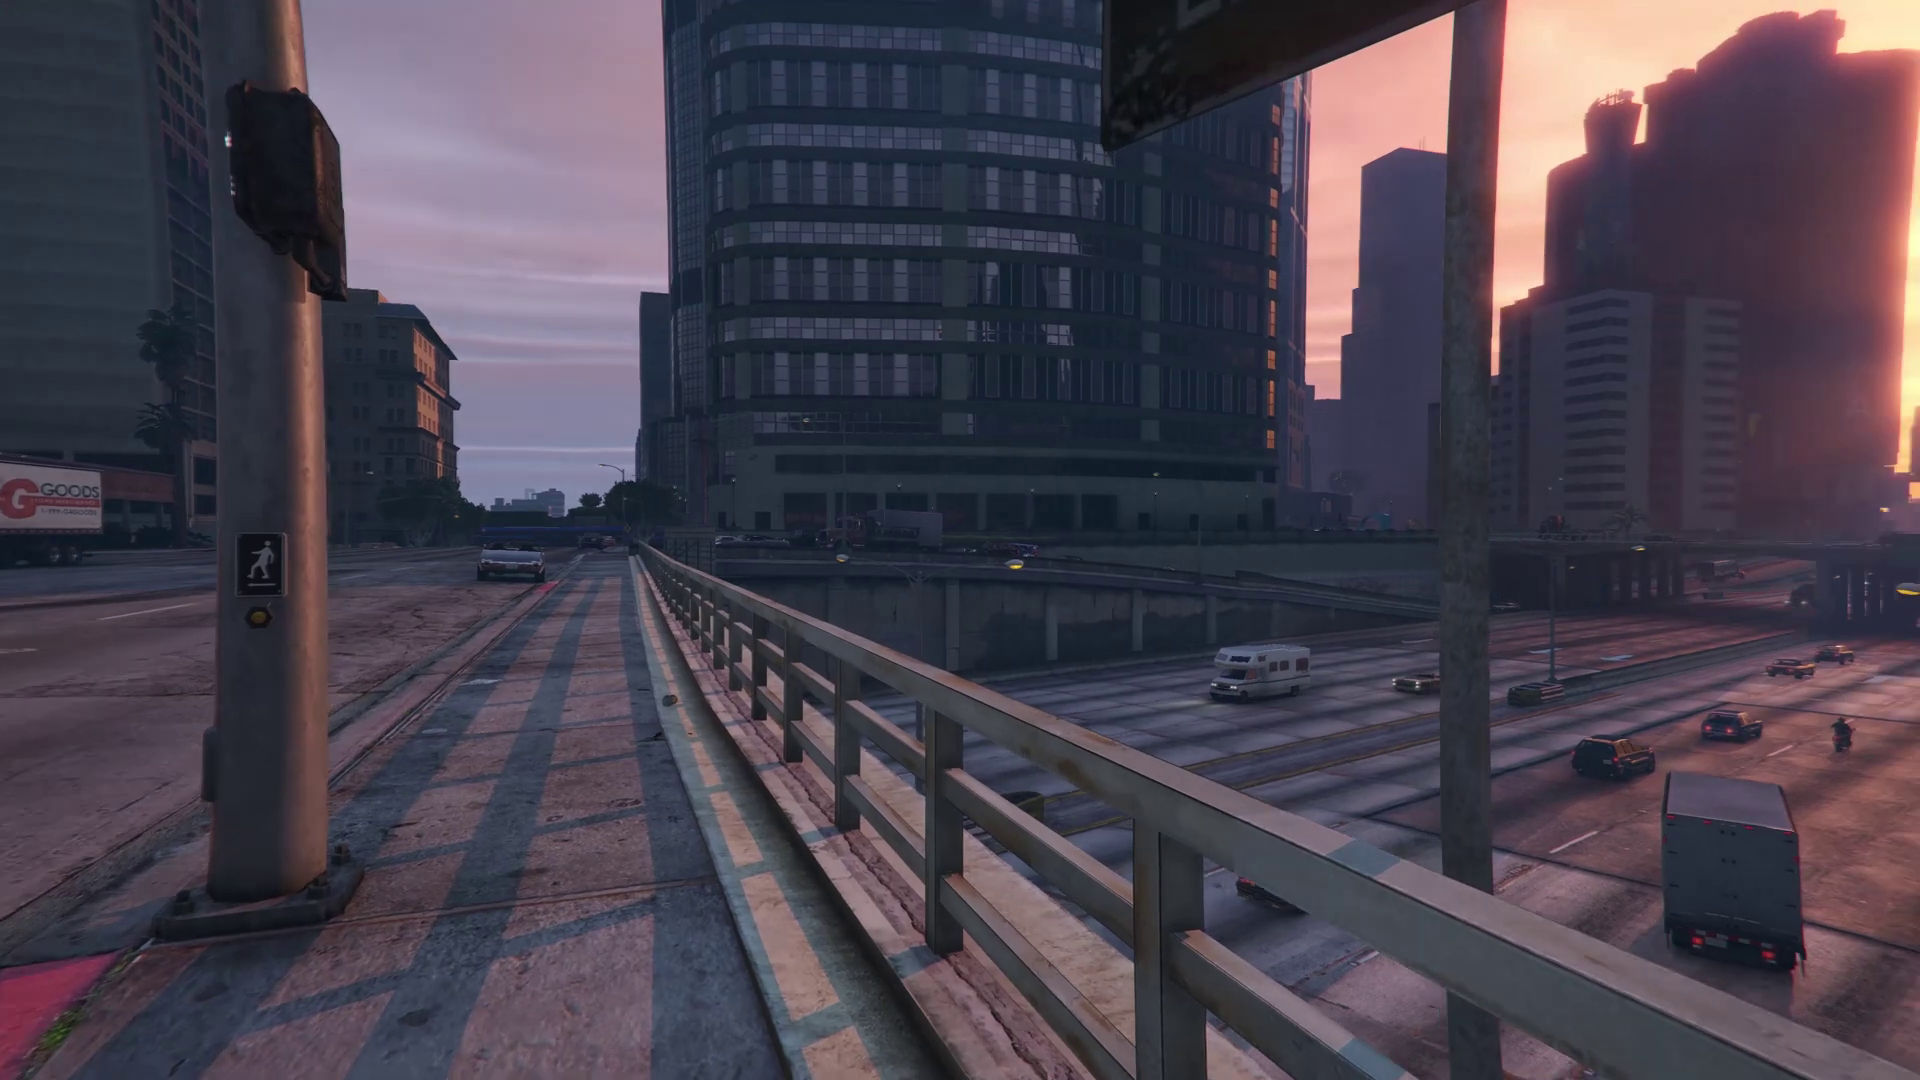car: (1664, 770, 1808, 968), (1208, 645, 1309, 697), (815, 510, 942, 551), (1572, 732, 1655, 777), (476, 540, 546, 582), (1706, 709, 1766, 742), (1390, 672, 1444, 694), (714, 534, 791, 549), (1764, 657, 1813, 679), (1697, 560, 1744, 582), (1787, 584, 1817, 610), (1818, 643, 1852, 666), (579, 533, 607, 550)
person: (1832, 716, 1850, 742)
traffic light: (224, 85, 338, 279)
